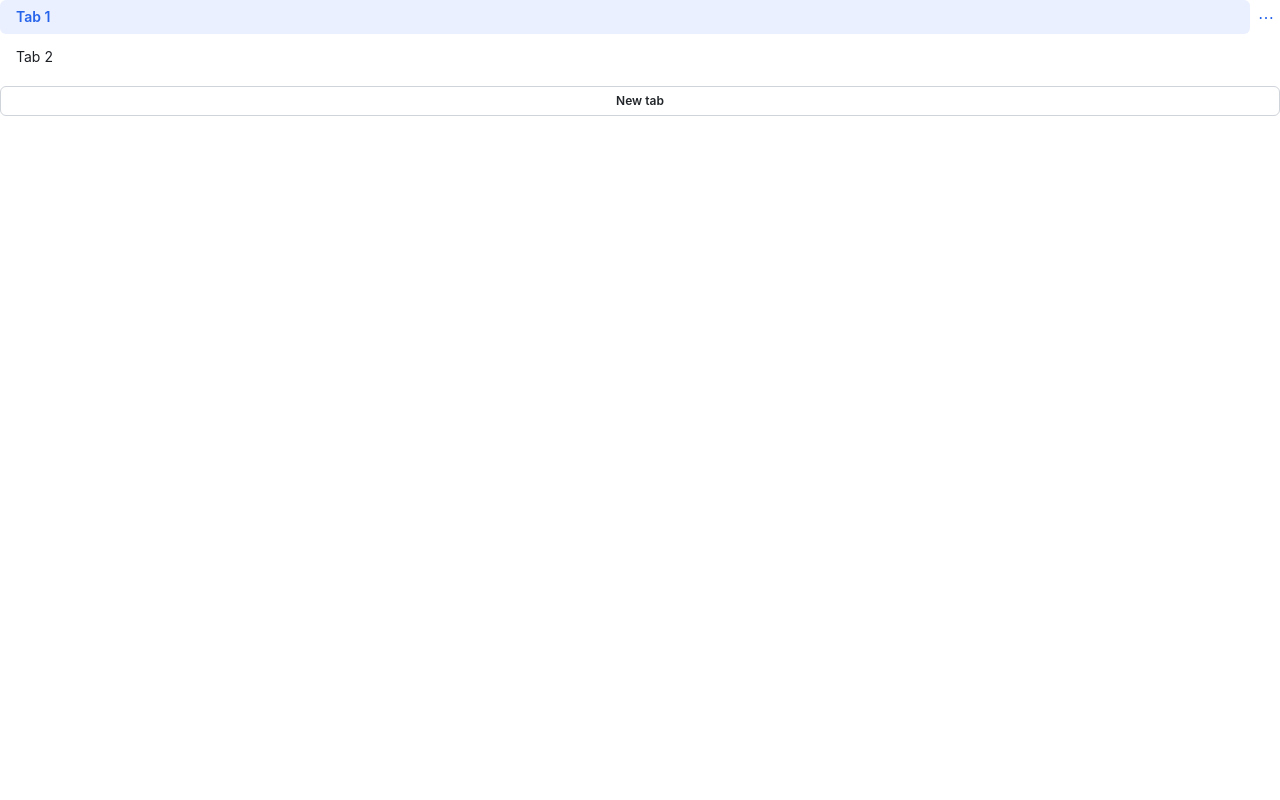
Test: TabBar › confirming the delete removes the tab and its cards
This screenshot has width=1280, height=800.
Later steps or results of the test are not shown.
Click the button named "Tab actions". click: [1266, 17]
box: [1252, 3, 1279, 31]
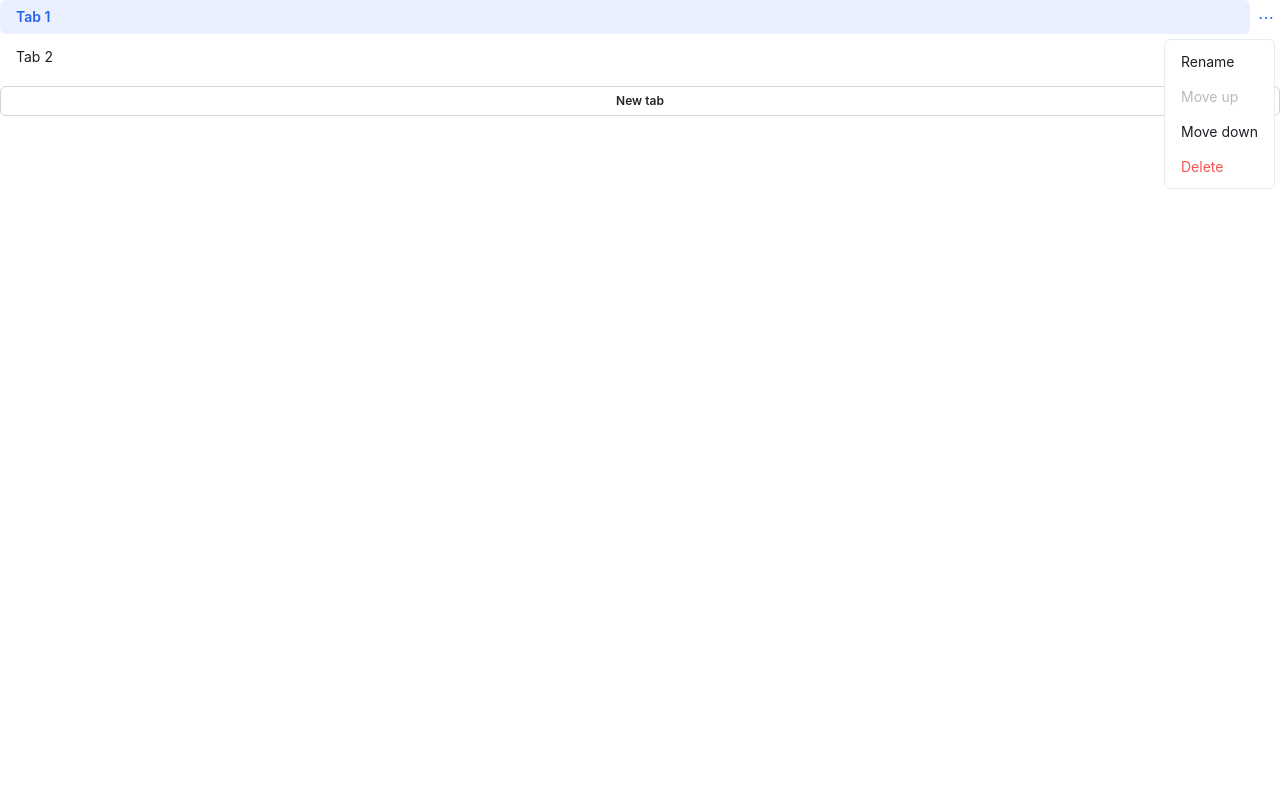
Click the menu item "Delete". click: [1220, 166]
box: [1169, 149, 1270, 184]
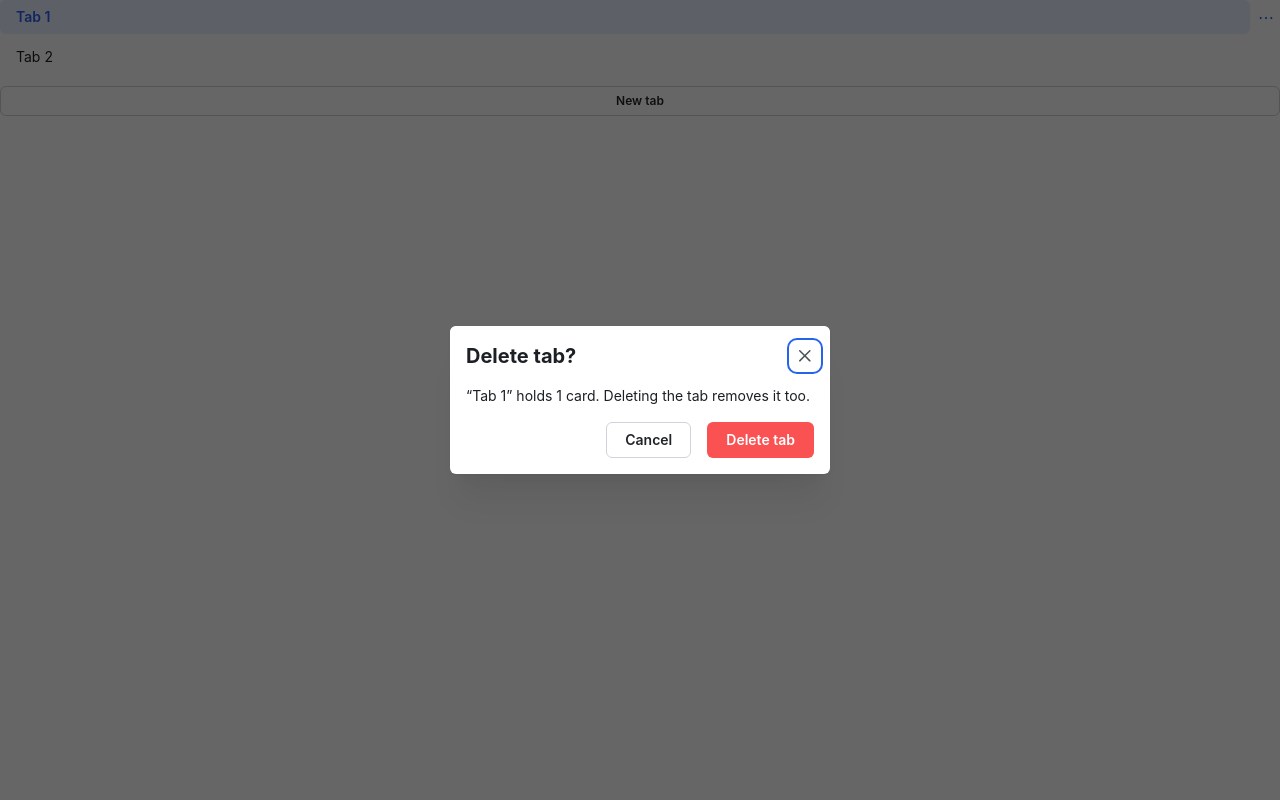
Expected: the text "“Tab 1” holds 1 card. Deleting the tab removes it too." is shown, [466, 386, 814, 406]
